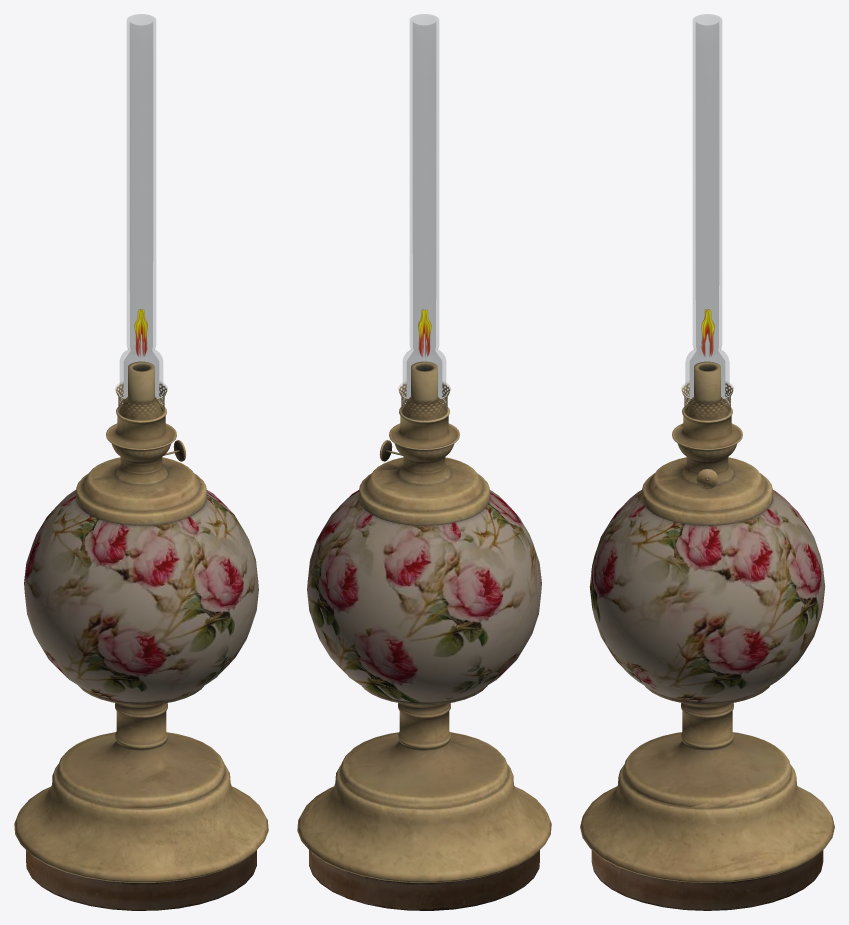
File: 7ea37cdc-801c-4f67-a416-eccded572646.glb
3 renders of one model, left to right at view 1: azimuth 30°, elevation 25°; view 2: azimuth 150°, elevation 25°; view 3: azimuth 270°, elevation 25°, orthographic.
Visible parts, largest first — view 1: vintage_oil_lamp, vintage_oil_lamp_glass; view 2: vintage_oil_lamp, vintage_oil_lamp_glass; view 3: vintage_oil_lamp, vintage_oil_lamp_glass.
Part boxes in pixels (x1,y1,x2,y2): vintage_oil_lamp: (14, 361, 268, 910); vintage_oil_lamp_glass: (115, 14, 167, 420); vintage_oil_lamp: (297, 361, 551, 910); vintage_oil_lamp_glass: (398, 14, 450, 420); vintage_oil_lamp: (580, 361, 834, 910); vintage_oil_lamp_glass: (681, 14, 733, 420).
Size of the model in its own units: 0.22 by 0.8016 by 0.22.
3 materials, 3 textured.
